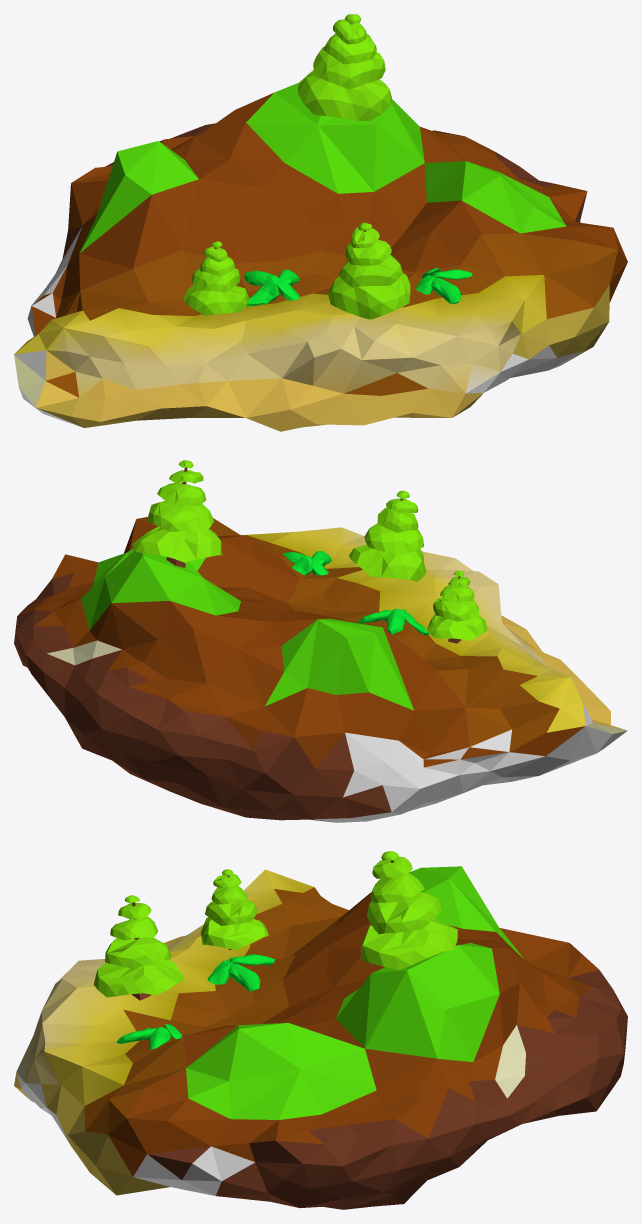
The model's file is ISLAND.glb.
3 views of the same model, one above another, from view 1: azimuth 30°, elevation 25°; view 2: azimuth 150°, elevation 25°; view 3: azimuth 270°, elevation 25° (orthographic). The views are drawn at different scales.
Visible parts, largest first — view 1: Icosphere, Icosphere.006, Icosphere.005, Icosphere.021; view 2: Icosphere, Icosphere.006, Icosphere.005, Icosphere.021; view 3: Icosphere, Icosphere.006, Icosphere.005, Icosphere.021, Icosphere.001.
Part boxes in pixels (x1,y1,x2,y2): Icosphere: (14, 82, 627, 431); Icosphere.006: (298, 14, 391, 121); Icosphere.005: (328, 222, 410, 319); Icosphere.021: (183, 241, 249, 315); Icosphere: (14, 517, 627, 822); Icosphere.006: (132, 460, 222, 567); Icosphere.005: (349, 490, 426, 581); Icosphere.021: (427, 570, 487, 643); Icosphere: (14, 866, 627, 1209); Icosphere.006: (360, 851, 457, 970); Icosphere.005: (93, 895, 184, 1000); Icosphere.021: (201, 869, 268, 950); Icosphere.001: (228, 963, 260, 991).
Bounding box in the file's own units: 30.45 × 14.91 × 26.28.
